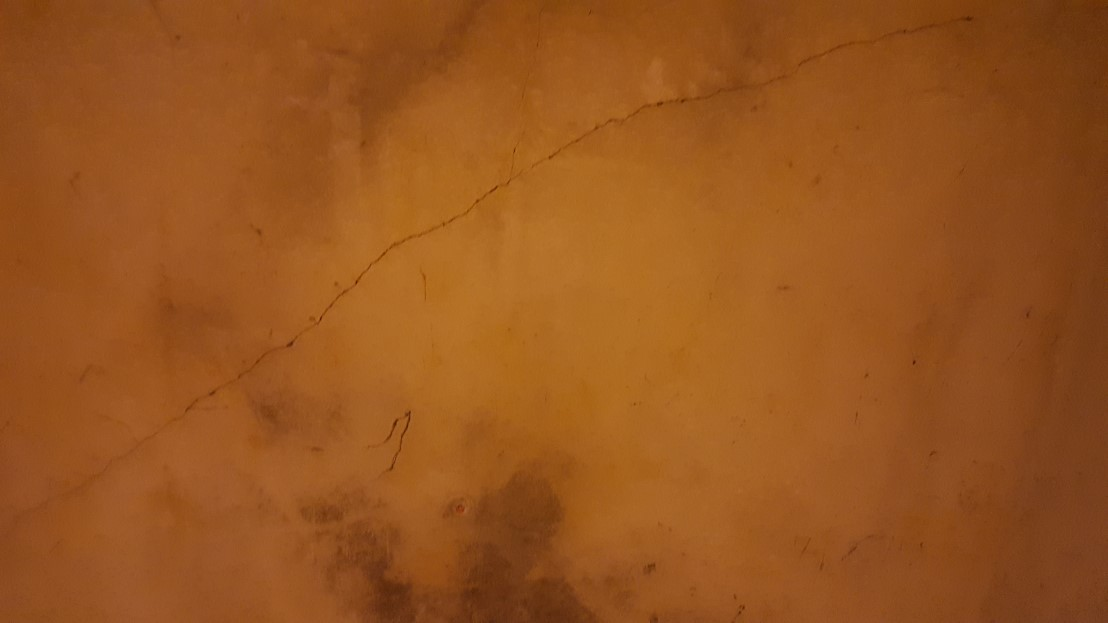Crack: (23, 10, 980, 526), (357, 387, 434, 486)
